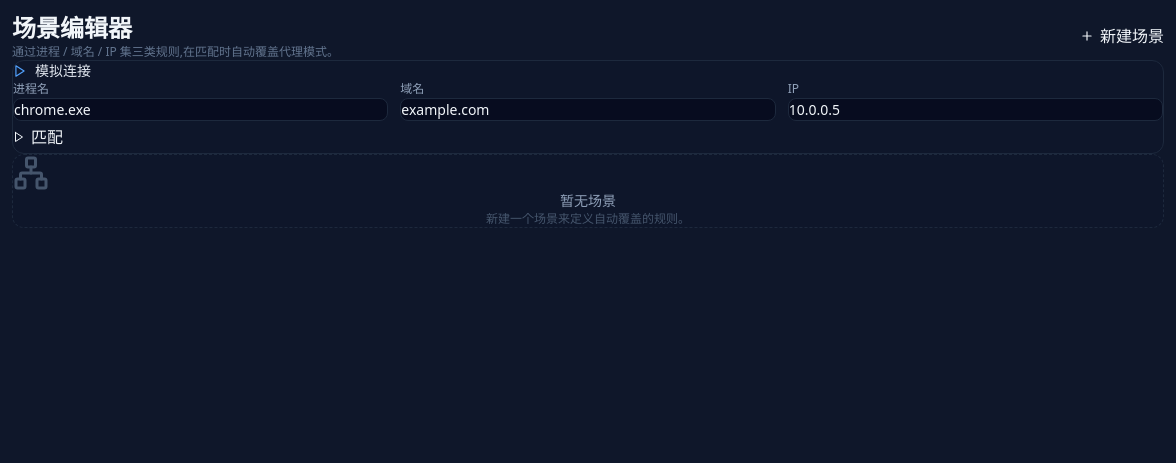
it: SceneEditorView — renders three matcher kinds › renders a per-kind Add Matcher button and appends the right shape to matchers
Note: The empty state shows the "新建场景" CTA.
Step 1. Click the button with test id "scene-new" → (1122, 36), box [1080,20,1164,52]
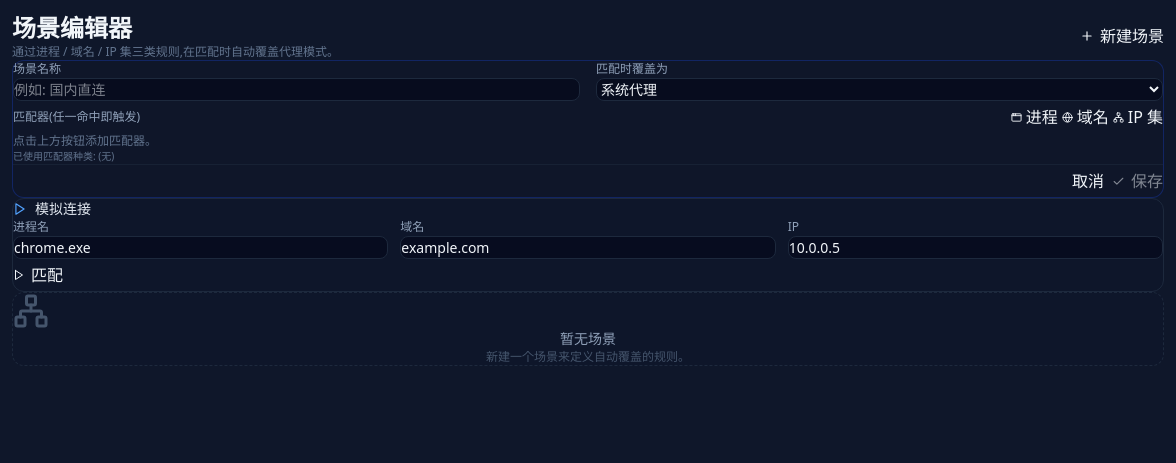
Step 2. Click the button with test id "scene-form-add-process" → (1034, 117), box [1011,101,1058,133]
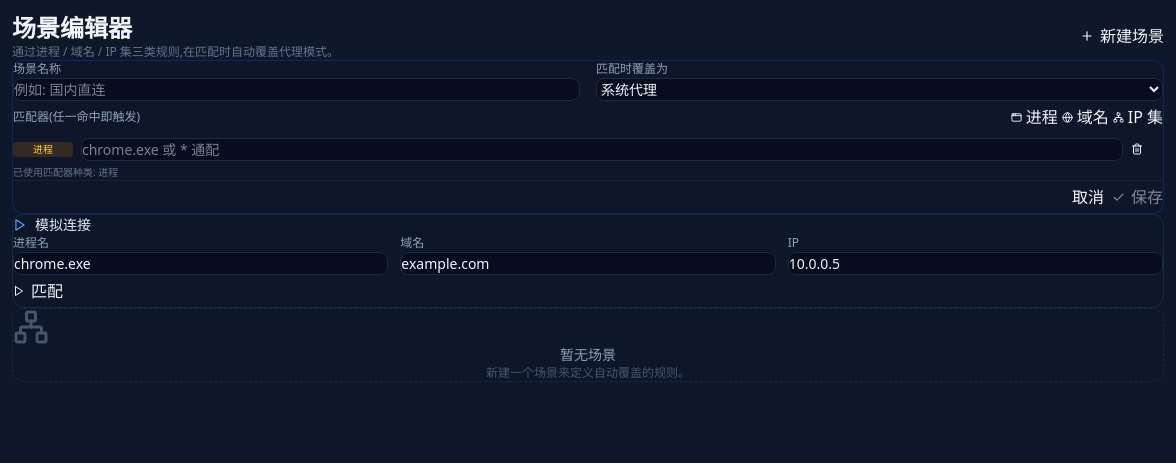
Step 3. Click the button with test id "scene-form-add-domain" → (1085, 117), box [1062,101,1109,133]
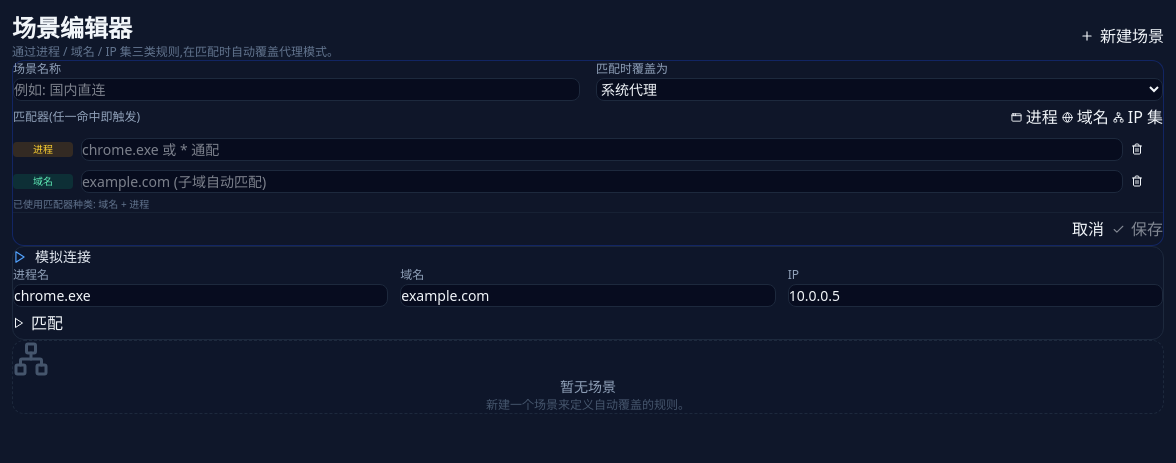
Step 4. Click the button with test id "scene-form-add-ipset" → (1138, 117), box [1113,101,1163,133]
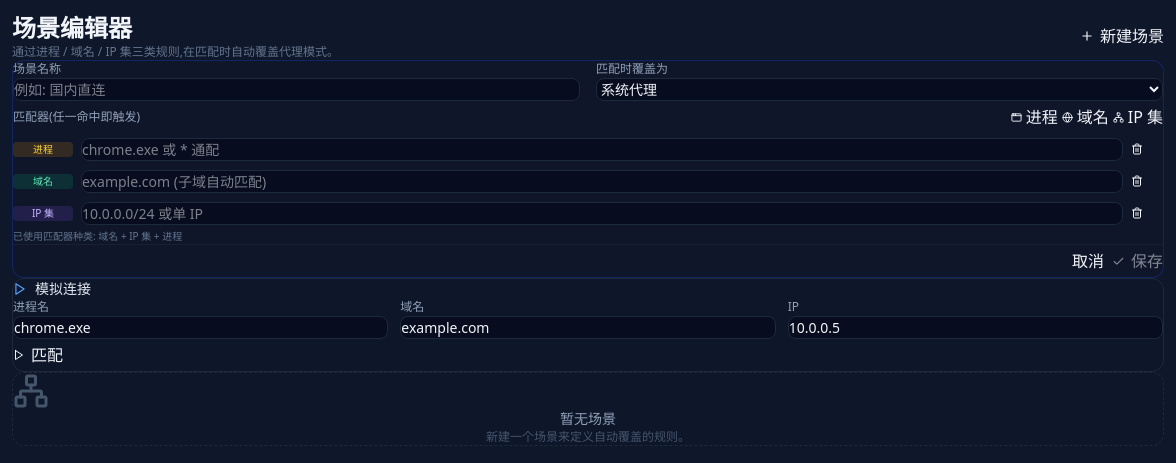
Expected: the number of elements with test id "scene-form-matcher" is 3, [13,133,1163,165]; [13,165,1163,197]; [13,197,1163,229]
Expected: the number of fields with test id "scene-form-matcher-input" is 3, [81,138,1123,160]; [81,170,1123,192]; [81,202,1123,224]
